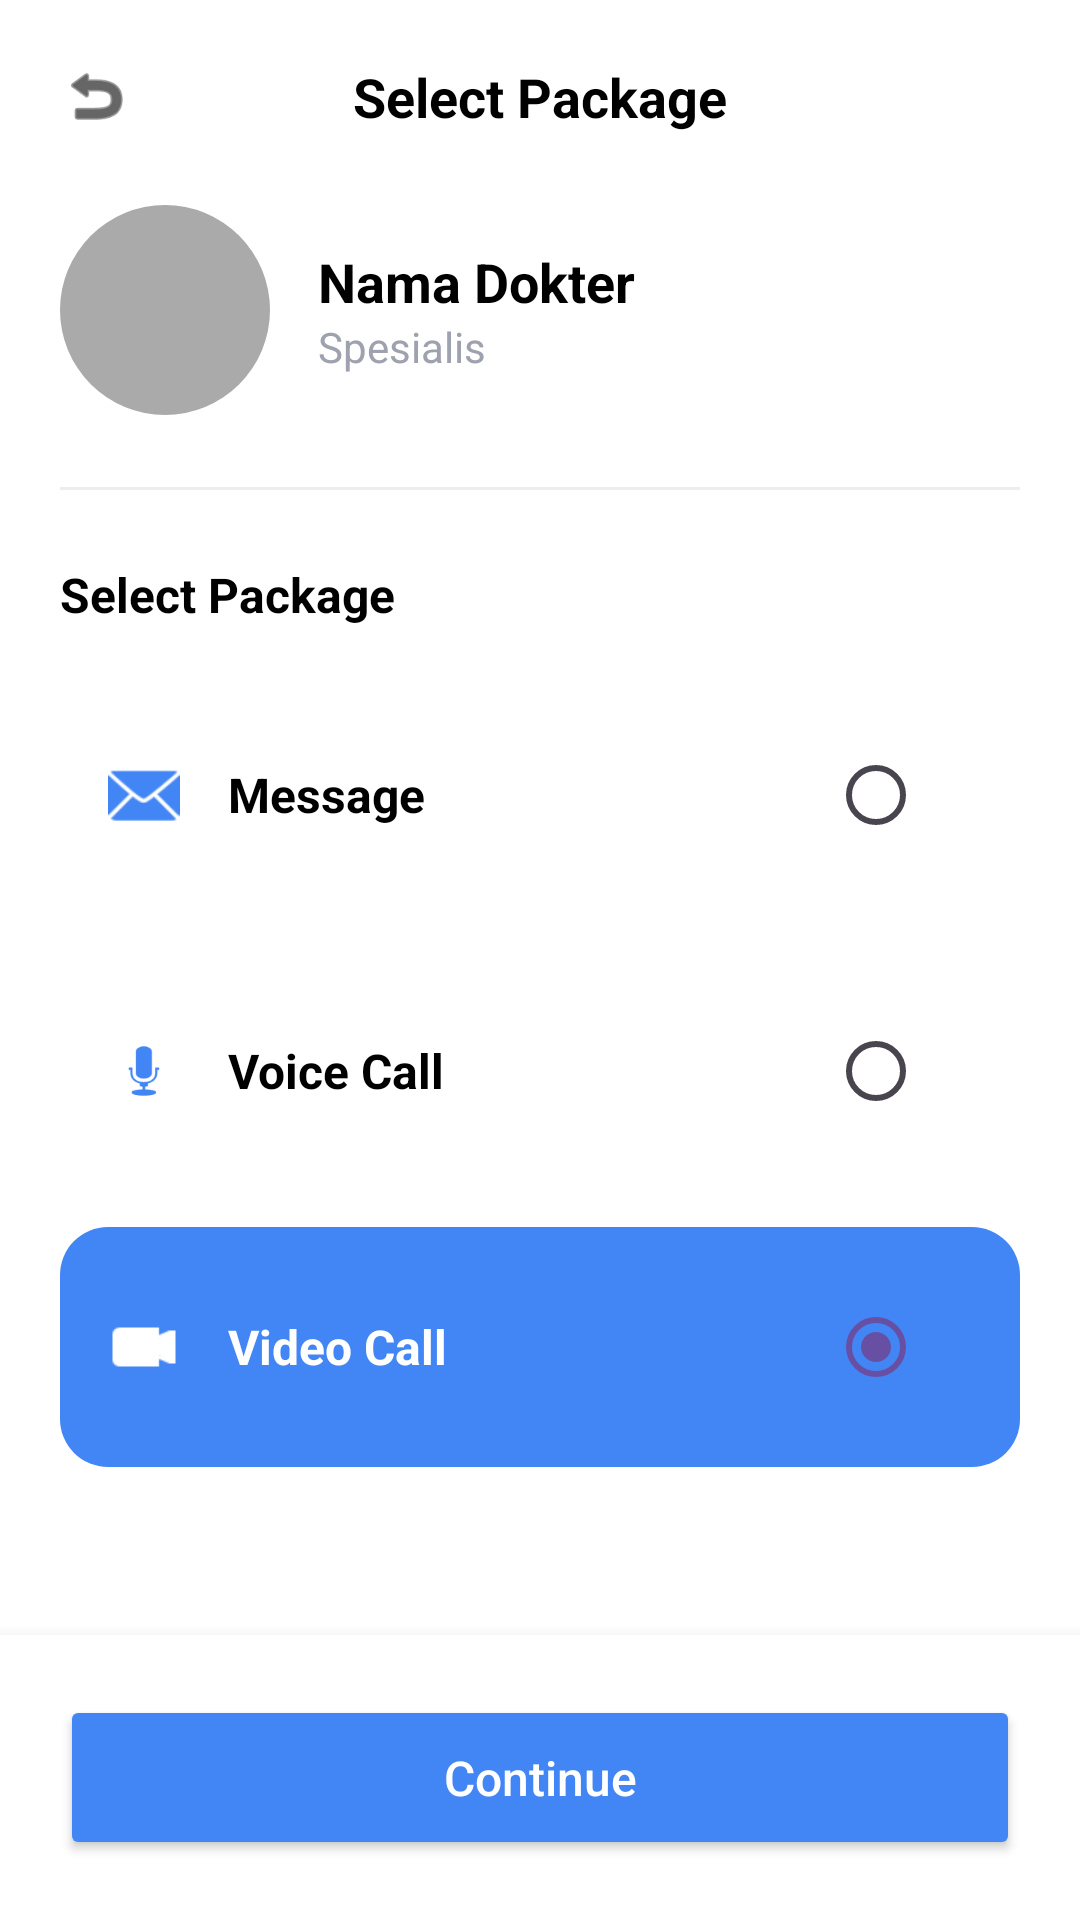

Named icons in this screenshot (1080×1920) and their bounding boxes, (left=x1, top=y1, right=x2, bottom=y2):
email: (left=108, top=770, right=180, bottom=821)
presence video online: (left=112, top=1327, right=176, bottom=1367)
revert: (left=71, top=73, right=123, bottom=120)
speak now: (left=128, top=1046, right=160, bottom=1096)
